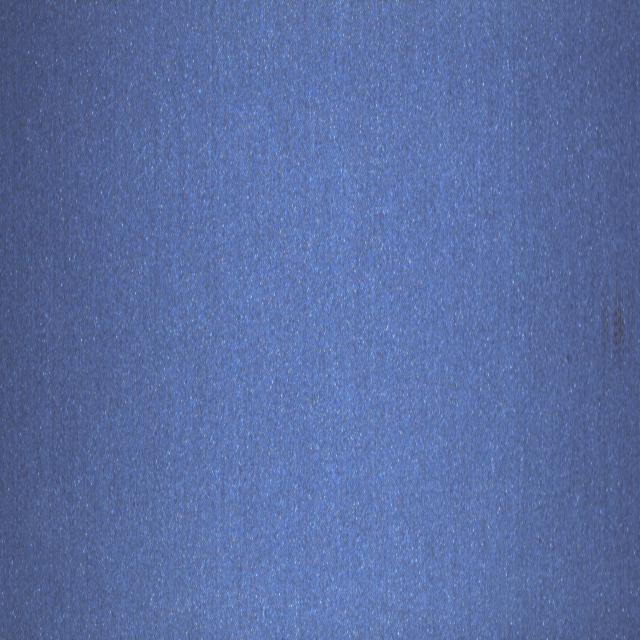stain: (589, 283, 636, 378)
